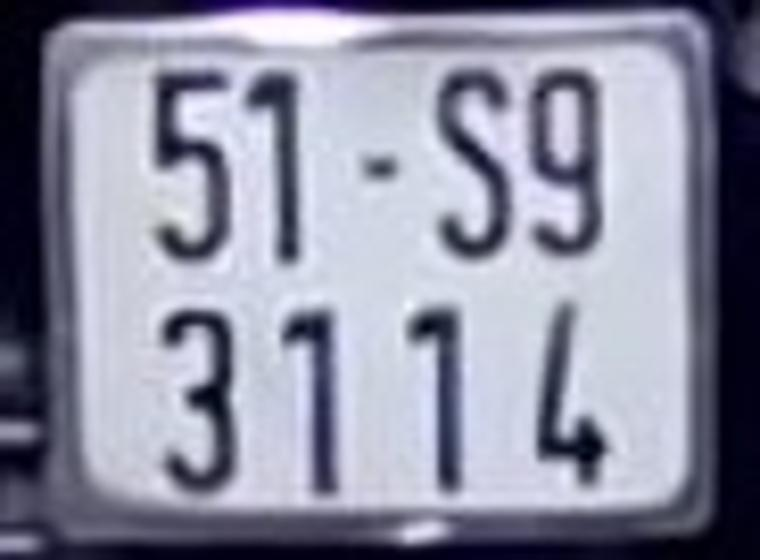-: (357, 152, 401, 185)
1: (237, 68, 313, 269), (403, 304, 470, 495), (281, 305, 343, 498)
3: (157, 307, 239, 495)
4: (532, 302, 613, 487)
5: (150, 69, 236, 261)
9: (529, 67, 607, 259)
S: (430, 65, 515, 264)
